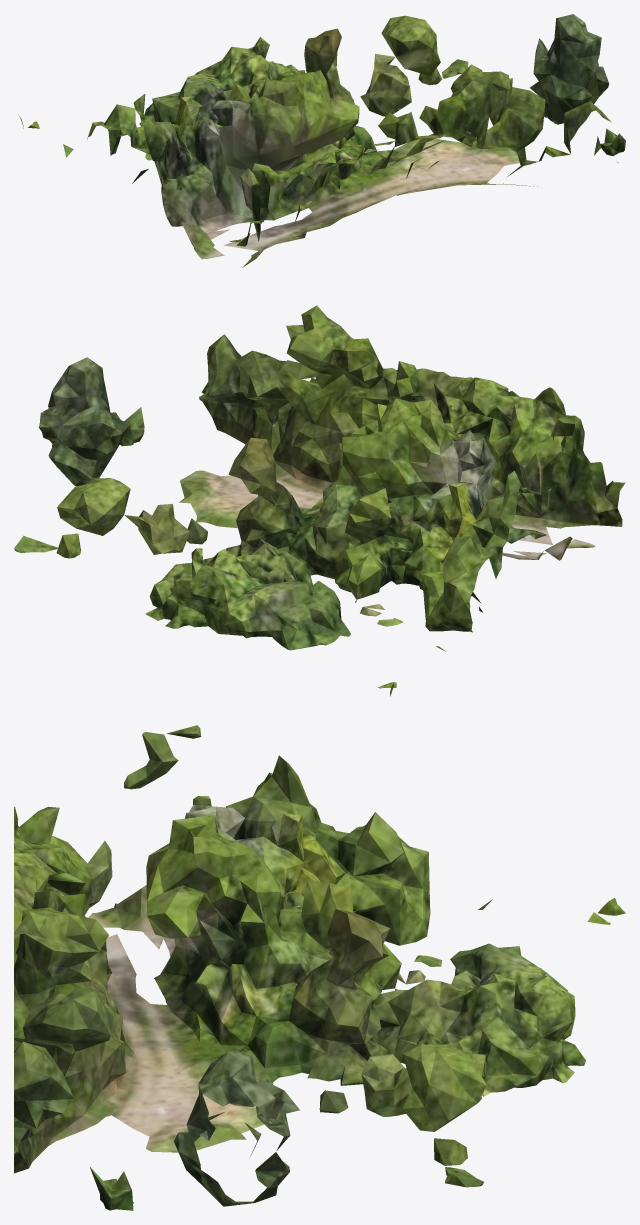
The picture shows the model from 3 angles, top to bottom: view 1: azimuth 30°, elevation 25°; view 2: azimuth 150°, elevation 25°; view 3: azimuth 270°, elevation 25°; orthographic projection. The views are drawn at different scales.
Bounding box in the file's own units: 52.22 × 15.52 × 44.43.
3 materials, 3 textured.
